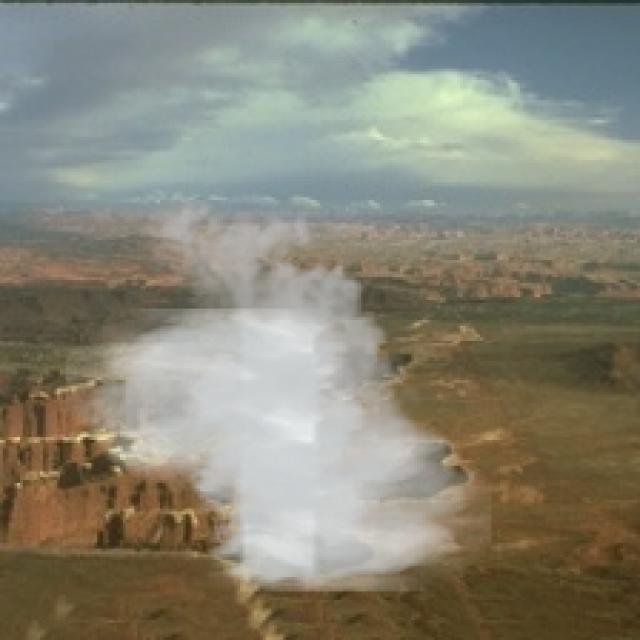Smoke: (66, 188, 492, 592)
